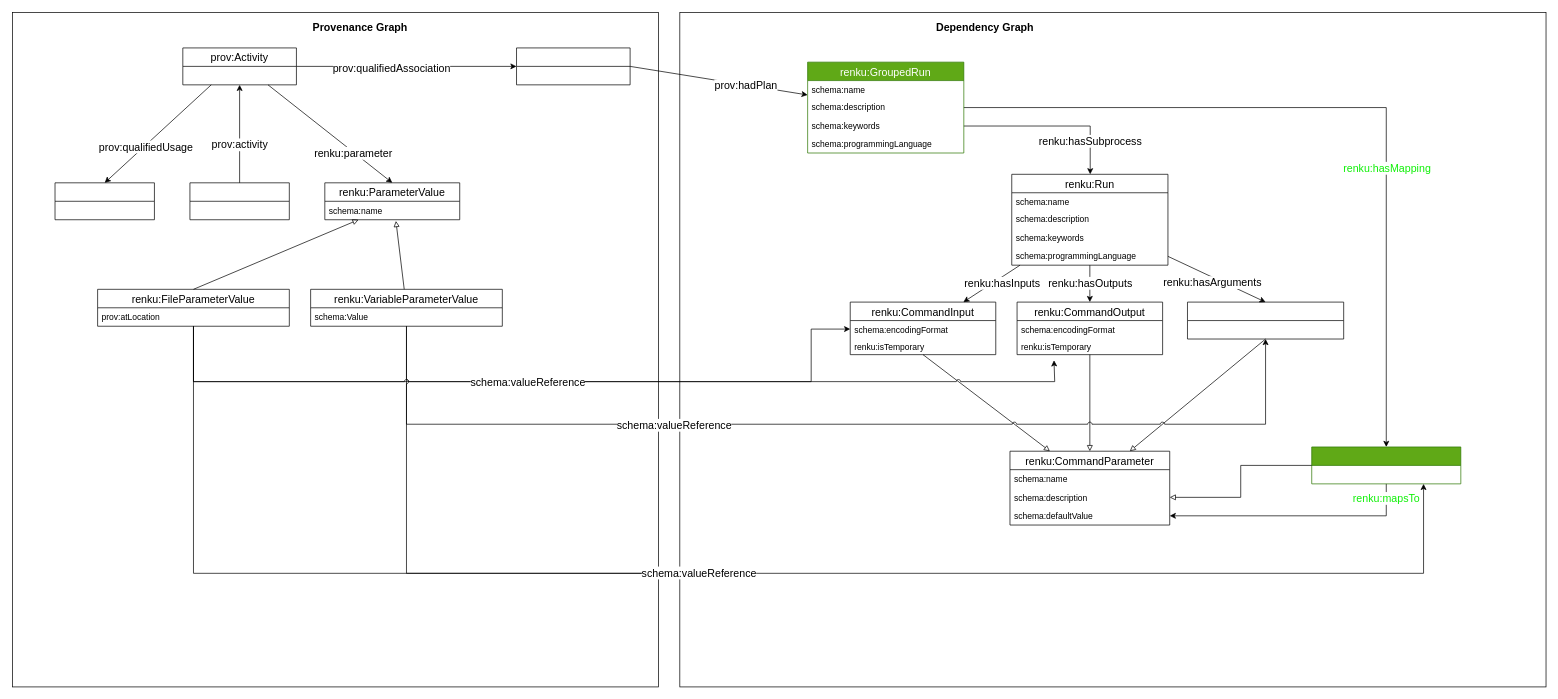
The diagram is 1558 pixels wide and 699 high, and some of its shapes have lost their labels. The shapes that lost their labels are listed below. From the top down, each one's centre as x and y in pixels, then its label:
[573,66]: prov:Association
[104,201]: prov:Usage
[239,201]: prov:Generation
[1265,320]: renku:CommandArgument
[1386,465]: renku:ParameterMapping
